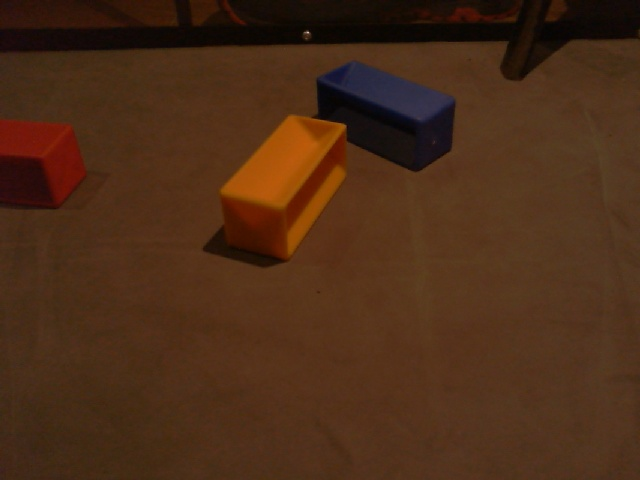BlueSample: (316, 58, 456, 173)
RedSample: (1, 114, 88, 212)
YellowSample: (214, 113, 350, 260)
